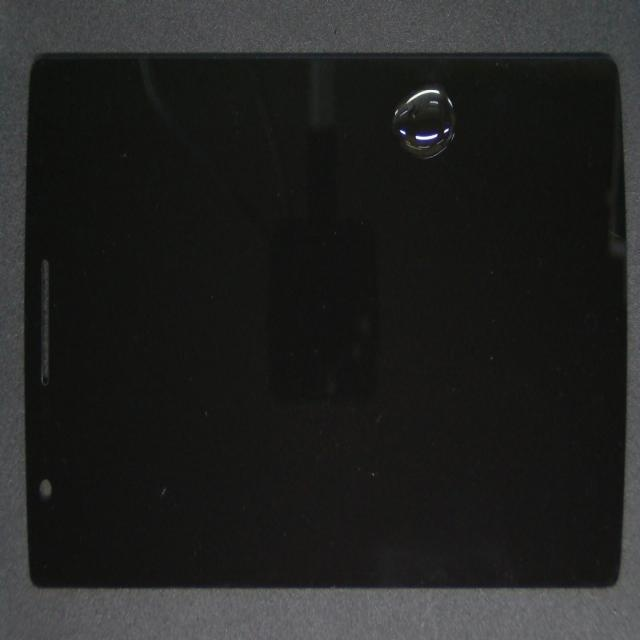oil: (228, 31, 623, 151)
